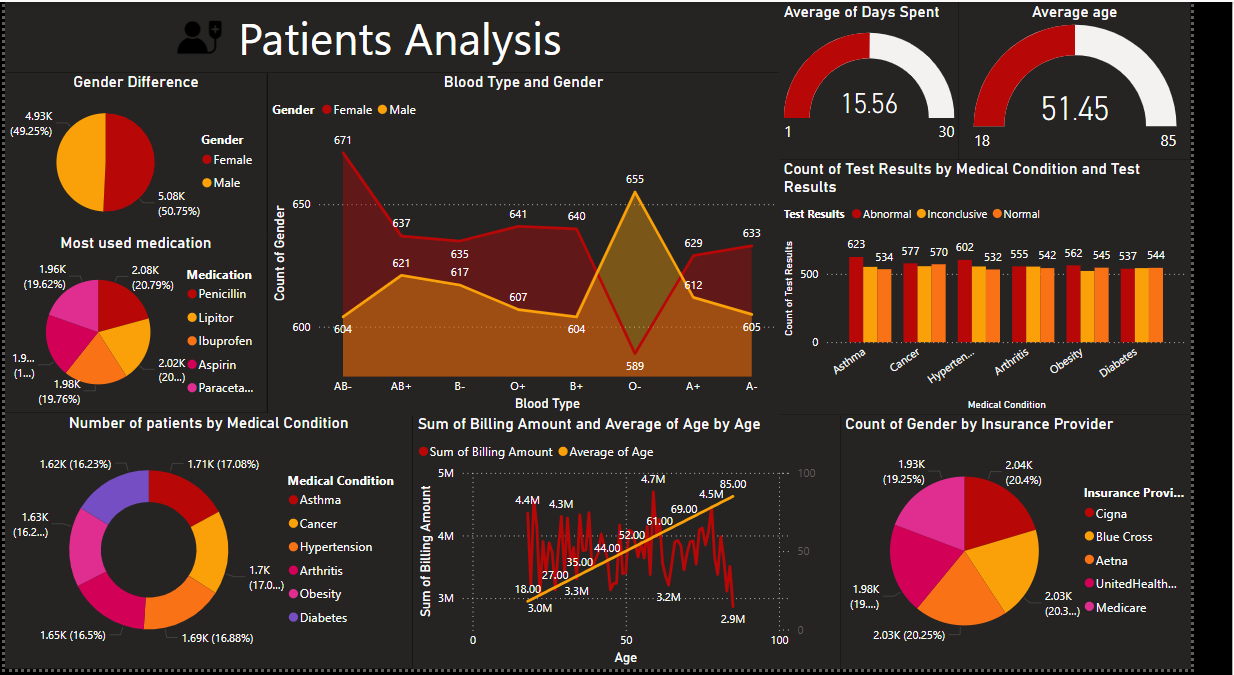

The page's visual inventory and layout, read from the dashboard file:
{"tool":"powerbi","page":{"name":"Patients Analysis","canvas":[1280,720],"ordinal":2},"visuals":[{"type":"pieChart","title":"Gender Difference","fields":{"Y":["CountNonNull(healthcare_dataset.Gender)"],"Category":["healthcare_dataset.Gender"]},"box":[0,75.7,282.9,174.3],"z":0},{"type":"textbox","box":[0,0,852.9,75.7],"z":1000},{"type":"pieChart","title":"Most used medication","fields":{"Y":["CountNonNull(healthcare_dataset.Gender)"],"Category":["healthcare_dataset.Medication"]},"box":[0,250,282.9,194.3],"z":2000},{"type":"donutChart","title":"Number of patients by Medical Condition","fields":{"Y":["CountNonNull(healthcare_dataset.Gender)"],"Category":["healthcare_dataset.Medical Condition"]},"box":[0,444.3,440,275.7],"z":3000},{"type":"pieChart","fields":{"Category":["healthcare_dataset.Insurance Provider"],"Y":["CountNonNull(healthcare_dataset.Gender)"]},"box":[901.5,444.6,378.5,275.3],"z":4000},{"type":"lineChart","fields":{"Category":["healthcare_dataset.Age"],"Y":["Sum(healthcare_dataset.Billing Amount)"],"Y2":["Avg(healthcare_dataset.Age)"]},"box":[440.4,444.6,461.1,275.3],"z":5000},{"type":"clusteredColumnChart","fields":{"Category":["healthcare_dataset.Medical Condition"],"Y":["CountNonNull(healthcare_dataset.Test Results)"],"Series":["healthcare_dataset.Test Results"]},"box":[835.4,169.3,444.6,275.3],"z":6000},{"type":"gauge","title":"Average age","fields":{"Y":["Avg(healthcare_dataset.Age)"],"MinValue":["Min(healthcare_dataset.Age)"],"MaxValue":["Max(healthcare_dataset.Age)"]},"box":[1030,0,250,170],"z":7000},{"type":"gauge","title":"Average of Days Spent","fields":{"Y":["Avg(healthcare_dataset.Days Spent)"],"MinValue":["Min(healthcare_dataset.Days Spent)1"],"MaxValue":["Max(healthcare_dataset.Days Spent)2"]},"box":[835.7,0,194.3,170],"z":8000},{"type":"areaChart","title":"Blood Type and Gender","fields":{"Series":["healthcare_dataset.Gender"],"Category":["healthcare_dataset.Blood Type"],"Y":["CountNonNull(healthcare_dataset.Gender)"]},"box":[282.9,75.7,552.9,370],"z":9000},{"type":"image","box":[172.9,0,72.9,75.7],"z":10000}]}

Visuals, with their boxes in screenshot pixels (x1, y1, x2, y2), scaled from the page's 1280x720 canvas onto the 1234x675 screenshot:
"Gender Difference" pieChart: box=[0, 71, 273, 234]
textbox: box=[0, 0, 822, 71]
"Most used medication" pieChart: box=[0, 234, 273, 417]
"Number of patients by Medical Condition" donutChart: box=[0, 417, 424, 674]
pieChart - healthcare_dataset.Insurance Provider x CountNonNull(healthcare_dataset.Gender): box=[869, 417, 1233, 674]
lineChart - healthcare_dataset.Age x Sum(healthcare_dataset.Billing Amount): box=[425, 417, 869, 674]
clusteredColumnChart - healthcare_dataset.Medical Condition x CountNonNull(healthcare_dataset.Test Results): box=[805, 159, 1233, 417]
"Average age" gauge: box=[993, 0, 1233, 159]
"Average of Days Spent" gauge: box=[806, 0, 993, 159]
"Blood Type and Gender" areaChart: box=[273, 71, 806, 418]
image: box=[167, 0, 237, 71]
